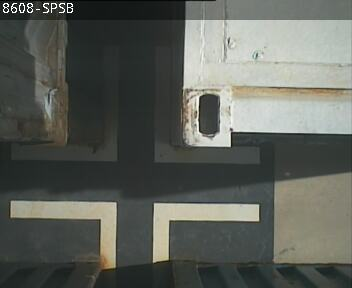groundmarker_1: (11, 46, 259, 163), (9, 201, 259, 288)
